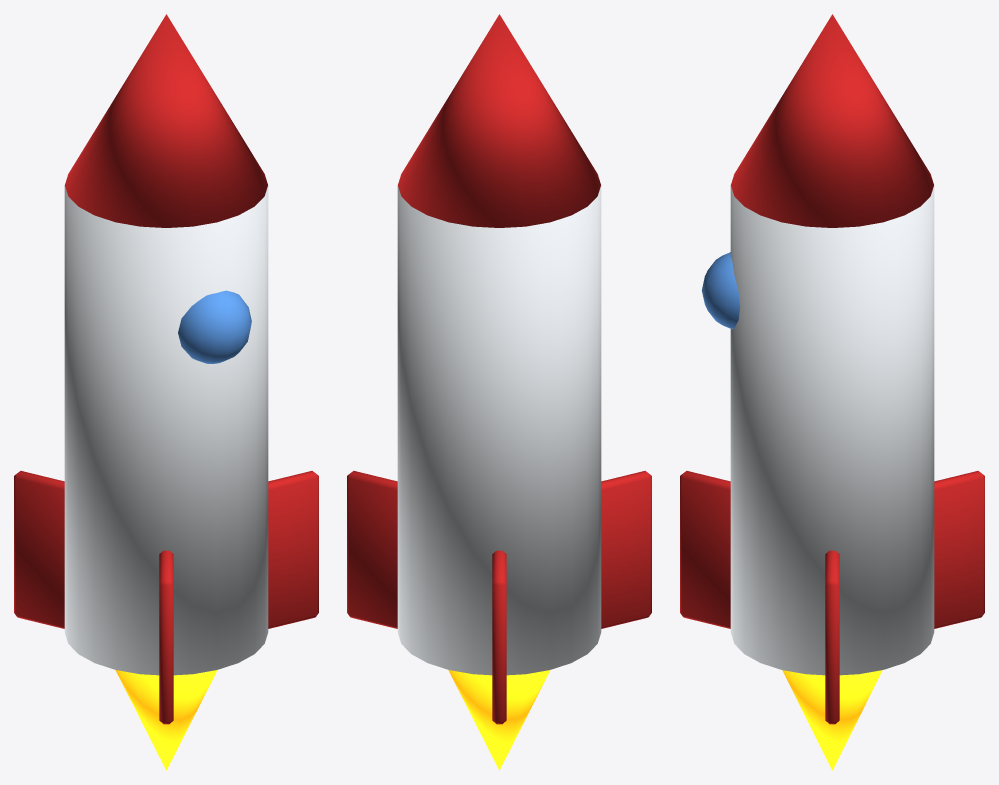
File: rocket.glb
3 renders of one model, left to right at view 1: azimuth 30°, elevation 25°; view 2: azimuth 150°, elevation 25°; view 3: azimuth 270°, elevation 25°, orthographic.
Parts seen in each view (by area): view 1: Body, Nose, Fin, Fin.001, Flame, Window, Fin.002; view 2: Body, Nose, Fin, Fin.002, Flame, Fin.001; view 3: Body, Nose, Fin.001, Fin.002, Flame, Fin, Window.
Boxes of the visible parts, x1,y1,x2,y2 form: Body: [64, 185, 268, 675]; Nose: [65, 14, 267, 227]; Fin: [268, 471, 318, 628]; Fin.001: [14, 471, 64, 628]; Flame: [115, 670, 217, 770]; Window: [178, 290, 251, 363]; Fin.002: [159, 550, 173, 724]; Body: [397, 185, 601, 675]; Nose: [398, 14, 600, 227]; Fin: [347, 471, 397, 628]; Fin.002: [601, 471, 651, 628]; Flame: [448, 670, 550, 770]; Fin.001: [492, 550, 506, 724]; Body: [730, 185, 934, 675]; Nose: [731, 14, 933, 227]; Fin.001: [934, 471, 984, 628]; Fin.002: [680, 471, 730, 628]; Flame: [782, 670, 882, 770]; Fin: [825, 550, 839, 724]; Window: [701, 252, 739, 329].
Bounding box in the file's own units: 1.9 × 5.75 × 2.1.
